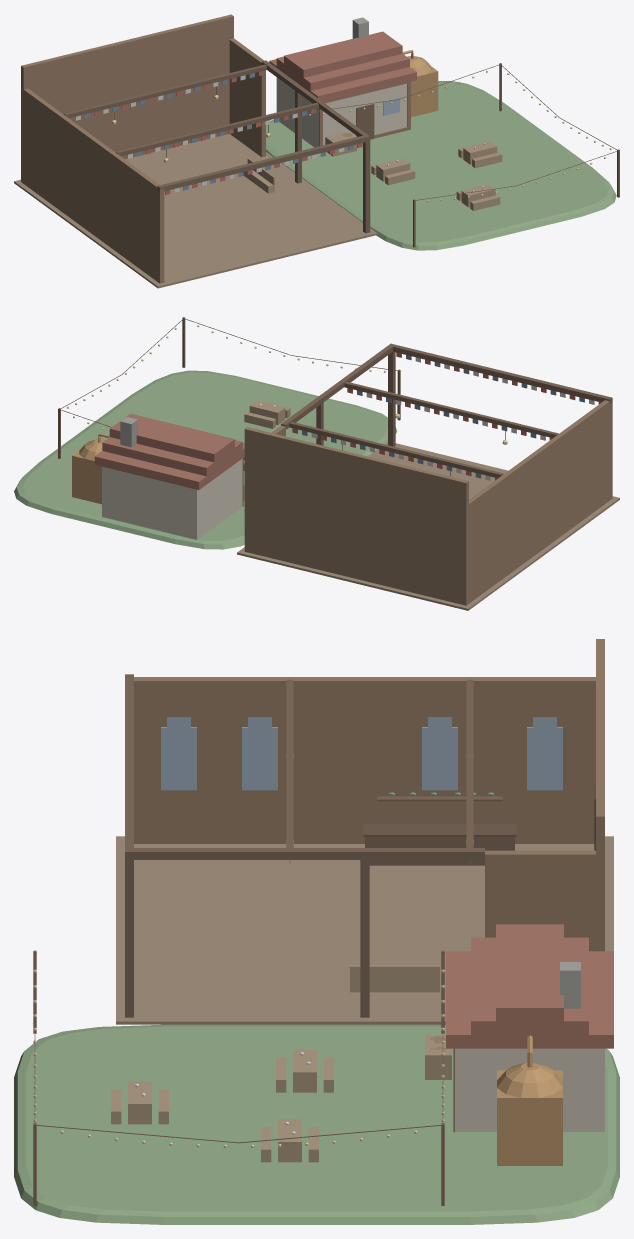
The model's file is set.glb.
3 renders of one model, top to bottom at view 1: azimuth 30°, elevation 25°; view 2: azimuth 150°, elevation 25°; view 3: azimuth 270°, elevation 25°, orthographic. The views are drawn at different scales.
Visible parts, largest first — view 1: boxing-house; view 2: boxing-house; view 3: boxing-house.
Part boxes in pixels (<box>): boxing-house: <box>14,14,619,288</box>; boxing-house: <box>14,317,619,610</box>; boxing-house: <box>14,639,619,1224</box>.
Bounding box in the file's own units: 30 × 7.7 × 20.2.
